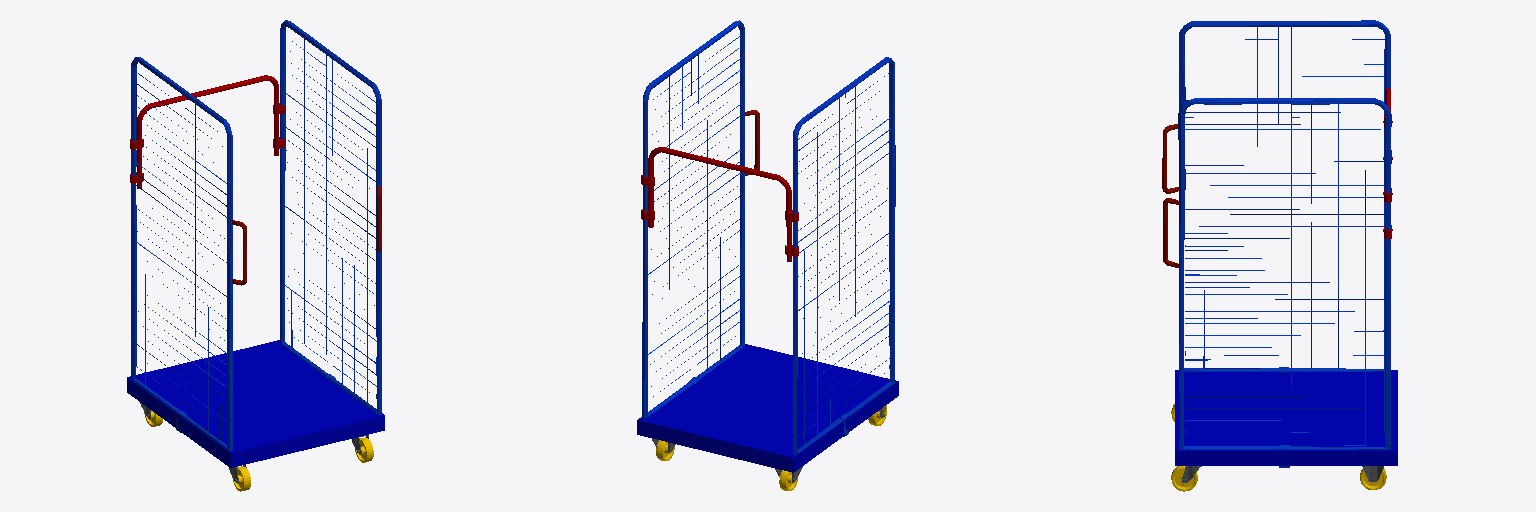
The robot description file, URDF, robot "roll_container":
<?xml version="1.0"?>
<!-- created with Phobos 1.0.1 "Capricious Choutengan" -->
  <robot name="roll_container">

    <link name="back_stabilizer">
      <inertial>
        <origin xyz="0 0 0" rpy="0 0 0"/>
        <mass value="0.1"/>
        <inertia ixx="5e-05" ixy="0" ixz="0" iyy="0.00038" iyz="0" izz="0.00032"/>
      </inertial>
      <visual name="visual_back_stabilizer">
        <origin xyz="0 0 0" rpy="0 0 0"/>
        <geometry>
          <mesh filename="package://roll_container_description/meshes/stl/Part__Feature167.stl" scale="1.0 1.0 1.0"/>
        </geometry>
        <material name="back_stabilizer"/>
      </visual>
      <collision name="collision_back_stabilizer_1">
        <origin xyz="0 0.00014 0.14752" rpy="0 1.5708 0"/>
        <geometry>
          <cylinder radius="0.01072" length="0.64768"/>
        </geometry>
      </collision>
      <collision name="collision_back_stabilizer_2">
        <origin xyz="0.3151 -0.00054 -0.02707" rpy="0 0 0"/>
        <geometry>
          <cylinder radius="0.01072" length="0.35586"/>
        </geometry>
      </collision>
      <collision name="collision_back_stabilizer_3">
        <origin xyz="-0.3151 -0.00054 -0.02706" rpy="0 0 0"/>
        <geometry>
          <cylinder radius="0.01072" length="0.35586"/>
        </geometry>
      </collision>
    </link>

    <link name="castor_rigit_left">
      <inertial>
        <origin xyz="0 0 0" rpy="0 0 0"/>
        <mass value="0.05"/>
        <inertia ixx="2e-05" ixy="0" ixz="0" iyy="2e-05" iyz="0" izz="2e-05"/>
      </inertial>
      <visual name="visual_castor_rigit_left_fork">
        <origin xyz="0 0 0" rpy="0 0 0"/>
        <geometry>
          <mesh filename="package://roll_container_description/meshes/stl/Part__Feature082.stl" scale="1.0 1.0 1.0"/>
        </geometry>
        <material name="metal"/>
      </visual>
      <collision name="collision_castor_rigit_left_fork">
        <origin xyz="-0.00018 0 -0.01474" rpy="0 0 0"/>
        <geometry>
          <box size="0.086 0.1015 0.089"/>
        </geometry>
      </collision>
    </link>

    <link name="castor_rigit_left_wheel">
      <inertial>
        <origin xyz="0 0 0" rpy="0 0 0"/>
        <mass value="0.25"/>
        <inertia ixx="3e-05" ixy="0" ixz="0" iyy="2e-05" iyz="0" izz="2e-05"/>
      </inertial>
      <visual name="visual_castor_rigit_left_wheel">
        <origin xyz="0 0 0" rpy="0 -1.5708 0"/>
        <geometry>
          <mesh filename="package://roll_container_description/meshes/stl/Part__Feature066.stl" scale="1.0 1.0 1.0"/>
        </geometry>
        <material name="wheel"/>
      </visual>
      <collision name="collision_castor_rigit_left_wheel">
        <origin xyz="-5e-05 0 0" rpy="0 0 0"/>
        <geometry>
          <cylinder radius="0.0495" length="0.03989"/>
        </geometry>
      </collision>
    </link>

    <link name="castor_rigit_right">
      <inertial>
        <origin xyz="0 0 0" rpy="0 0 0"/>
        <mass value="0.05"/>
        <inertia ixx="2e-05" ixy="0" ixz="0" iyy="2e-05" iyz="0" izz="2e-05"/>
      </inertial>
      <visual name="visual_castor_rigit_right_fork">
        <origin xyz="0 0 0" rpy="0 0 0"/>
        <geometry>
          <mesh filename="package://roll_container_description/meshes/stl/Part__Feature099.stl" scale="1.0 1.0 1.0"/>
        </geometry>
        <material name="metal"/>
      </visual>
      <collision name="collision_castor_rigit_right_fork">
        <origin xyz="-0.00018 0 -0.01474" rpy="0 0 0"/>
        <geometry>
          <box size="0.086 0.1015 0.089"/>
        </geometry>
      </collision>
    </link>

    <link name="castor_rigit_right_wheel">
      <inertial>
        <origin xyz="0 0 0" rpy="0 0 0"/>
        <mass value="0.25"/>
        <inertia ixx="3e-05" ixy="0" ixz="0" iyy="2e-05" iyz="0" izz="2e-05"/>
      </inertial>
      <visual name="visual_castor_rigit_right_wheel">
        <origin xyz="0 0 0" rpy="0 -1.5708 0"/>
        <geometry>
          <mesh filename="package://roll_container_description/meshes/stl/Part__Feature083.stl" scale="1.0 1.0 1.0"/>
        </geometry>
        <material name="wheel"/>
      </visual>
      <collision name="collision_castor_rigit_right_wheel">
        <origin xyz="-5e-05 0 0" rpy="0 0 0"/>
        <geometry>
          <cylinder radius="0.0495" length="0.03989"/>
        </geometry>
      </collision>
    </link>

    <link name="castor_swivel_left">
      <inertial>
        <origin xyz="0 0 0" rpy="0 0 0"/>
        <mass value="0.05"/>
        <inertia ixx="2e-05" ixy="0" ixz="0" iyy="2e-05" iyz="0" izz="2e-05"/>
      </inertial>
      <visual name="visual_castor_swivel_left_top_plate">
        <origin xyz="0 0 0" rpy="0 0 0"/>
        <geometry>
          <mesh filename="package://roll_container_description/meshes/stl/Part__Feature021.stl" scale="1.0 1.0 1.0"/>
        </geometry>
        <material name="metal"/>
      </visual>
      <collision name="collision_castor_swivel_left_top_plate">
        <origin xyz="0 0 -0.00201" rpy="0 0 0"/>
        <geometry>
          <box size="0.08 0.105 0.0125"/>
        </geometry>
      </collision>
    </link>

    <link name="castor_swivel_left_fork">
      <inertial>
        <origin xyz="-0.00547 -0.01599 -0.02516" rpy="0 0 0"/>
        <mass value="0.05"/>
        <inertia ixx="2e-05" ixy="0" ixz="0" iyy="2e-05" iyz="0" izz="2e-05"/>
      </inertial>
      <visual name="visual_castor_swivel_left_fork">
        <origin xyz="-0.00547 -0.01599 -0.02516" rpy="0 0 0"/>
        <geometry>
          <mesh filename="package://roll_container_description/meshes/stl/Part__Feature022.stl" scale="1.0 1.0 1.0"/>
        </geometry>
        <material name="metal"/>
      </visual>
      <collision name="collision_castor_swivel_left_fork">
        <origin xyz="0.00029 -0.01005 -0.03671" rpy="0 0 0"/>
        <geometry>
          <box size="0.06794 0.086 0.07898"/>
        </geometry>
      </collision>
    </link>

    <link name="castor_swivel_left_wheel">
      <inertial>
        <origin xyz="0 0 -5e-05" rpy="0 0 0"/>
        <mass value="0.25"/>
        <inertia ixx="3e-05" ixy="0" ixz="0" iyy="2e-05" iyz="0" izz="2e-05"/>
      </inertial>
      <visual name="visual_castor_swivel_left_wheel">
        <origin xyz="0 0 -5e-05" rpy="0.50265 -1.5708 0"/>
        <geometry>
          <mesh filename="package://roll_container_description/meshes/stl/Part__Feature006.stl" scale="1.0 1.0 1.0"/>
        </geometry>
        <material name="wheel"/>
      </visual>
      <collision name="collision_castor_swivel_left_wheel">
        <origin xyz="0 0 0" rpy="0 0 0"/>
        <geometry>
          <cylinder radius="0.0495" length="0.03989"/>
        </geometry>
      </collision>
    </link>

    <link name="castor_swivel_right_wheel">
      <inertial>
        <origin xyz="0 0 -5e-05" rpy="0 0 0"/>
        <mass value="0.25"/>
        <inertia ixx="3e-05" ixy="0" ixz="0" iyy="2e-05" iyz="0" izz="2e-05"/>
      </inertial>
      <visual name="visual_castor_swivel_right_wheel">
        <origin xyz="0 0 -5e-05" rpy="0.50265 -1.5708 0"/>
        <geometry>
          <mesh filename="package://roll_container_description/meshes/stl/Part__Feature006.stl" scale="1.0 1.0 1.0"/>
        </geometry>
        <material name="wheel"/>
      </visual>
      <collision name="collision_castor_swivel_right_wheel">
        <origin xyz="0 0 0" rpy="0 0 0"/>
        <geometry>
          <cylinder radius="0.0495" length="0.03989"/>
        </geometry>
      </collision>
    </link>

    <link name="castor_swivel_right_fork">
      <inertial>
        <origin xyz="-0.00589 -0.01692 -0.02589" rpy="0 0 0"/>
        <mass value="0.05"/>
        <inertia ixx="2e-05" ixy="0" ixz="0" iyy="2e-05" iyz="0" izz="2e-05"/>
      </inertial>
      <visual name="visual_castor_swivel_right_fork">
        <origin xyz="-0.00589 -0.01692 -0.02589" rpy="0 0 0"/>
        <geometry>
          <mesh filename="package://roll_container_description/meshes/stl/Part__Feature117.stl" scale="1.0 1.0 1.0"/>
        </geometry>
        <material name="metal"/>
      </visual>
      <collision name="collision_castor_swivel_right_fork">
        <origin xyz="0.00107 -0.00955 -0.03667" rpy="0 0 0"/>
        <geometry>
          <box size="0.06794 0.086 0.07898"/>
        </geometry>
      </collision>
    </link>

    <link name="handle_left">
      <inertial>
        <origin xyz="0 0 0" rpy="0 0 0"/>
        <mass value="0.1"/>
        <inertia ixx="0.00011" ixy="0" ixz="0" iyy="0.00011" iyz="0" izz="2e-05"/>
      </inertial>
      <visual name="visual_handle_left">
        <origin xyz="-0.00659 0.00693 0" rpy="0 0 0"/>
        <geometry>
          <mesh filename="package://roll_container_description/meshes/stl/Part__Feature163.stl" scale="1.0 1.0 1.0"/>
        </geometry>
        <material name="handle"/>
      </visual>
      <collision name="collision_handle_left">
        <origin xyz="0.00434 -0.00751 -4e-05" rpy="0 0 0"/>
        <geometry>
          <cylinder radius="0.00973" length="0.27591"/>
        </geometry>
      </collision>
      <collision name="collision_handle_left_2">
        <origin xyz="-0.01033 0.01723 -0.13067" rpy="1.5708 0 0.5236"/>
        <geometry>
          <cylinder radius="0.00973" length="0.05394"/>
        </geometry>
      </collision>
      <collision name="collision_handle_left_3">
        <origin xyz="-0.01033 0.01723 0.12873" rpy="1.5708 0 0.5236"/>
        <geometry>
          <cylinder radius="0.00973" length="0.05394"/>
        </geometry>
      </collision>
    </link>

    <link name="handle_right">
      <inertial>
        <origin xyz="0.00433 0.00751 4e-05" rpy="0 0 0"/>
        <mass value="0.1"/>
        <inertia ixx="0.00011" ixy="0" ixz="0" iyy="0.00011" iyz="0" izz="2e-05"/>
      </inertial>
      <visual name="visual_handle_right">
        <origin xyz="0.00433 0.00751 4e-05" rpy="0 0 0"/>
        <geometry>
          <mesh filename="package://roll_container_description/meshes/stl/Part__Feature166.stl" scale="1.0 1.0 1.0"/>
        </geometry>
        <material name="handle"/>
      </visual>
      <collision name="collision_handle_right">
        <origin xyz="0 0 0" rpy="0 0 0"/>
        <geometry>
          <cylinder radius="0.00973" length="0.27591"/>
        </geometry>
      </collision>
      <collision name="collision_handle_right_000">
        <origin xyz="0.01477 0.02494 0.12877" rpy="1.5708 0 -0.5236"/>
        <geometry>
          <cylinder radius="0.00973" length="0.05394"/>
        </geometry>
      </collision>
      <collision name="collision_handle_right_000_001">
        <origin xyz="0.01477 0.02494 -0.13063" rpy="1.5708 0 -0.5236"/>
        <geometry>
          <cylinder radius="0.00973" length="0.05394"/>
        </geometry>
      </collision>
    </link>

    <link name="castor_swivel_right">
      <inertial>
        <origin xyz="0 0 0" rpy="0 0 0"/>
        <mass value="0.05"/>
        <inertia ixx="2e-05" ixy="0" ixz="0" iyy="2e-05" iyz="0" izz="2e-05"/>
      </inertial>
      <visual name="visual_castor_swivel_right_top_plate">
        <origin xyz="0 0 0" rpy="0 0 0"/>
        <geometry>
          <mesh filename="package://roll_container_description/meshes/stl/Part__Feature021.stl" scale="1.0 1.0 1.0"/>
        </geometry>
        <material name="metal"/>
      </visual>
      <collision name="collision_castor_swivel_right_top_plate">
        <origin xyz="0 0 -0.00201" rpy="0 0 0"/>
        <geometry>
          <box size="0.08 0.105 0.0125"/>
        </geometry>
      </collision>
    </link>

    <link name="roll_container_root">
      <inertial>
        <origin xyz="0 0 0" rpy="0 0 0"/>
        <mass value="2.0"/>
        <inertia ixx="0.00605" ixy="0" ixz="0" iyy="0.00465" iyz="0" izz="0.01065"/>
      </inertial>
      <visual name="visual_container_base">
        <origin xyz="-0.00111 0 0" rpy="0 0 0"/>
        <geometry>
          <mesh filename="package://roll_container_description/meshes/stl/Part__Feature.stl" scale="1.01559 1.0 1.0"/>
        </geometry>
        <material name="plate"/>
      </visual>
      <collision name="collision_container_base">
        <origin xyz="0.00017 0.00201 -0.00708" rpy="0 0 0"/>
        <geometry>
          <box size="0.724 0.815 0.06371"/>
        </geometry>
      </collision>
    </link>

    <link name="wire_lattice_left">
      <inertial>
        <origin xyz="0 0 0" rpy="0 0 0"/>
        <mass value="2.0"/>
        <inertia ixx="0.02993" ixy="1e-05" ixz="0" iyy="0.02364" iyz="0" izz="0.0063"/>
      </inertial>
      <visual name="visual_wire_lattice_left">
        <origin xyz="0 0 0" rpy="0 0 0"/>
        <geometry>
          <mesh filename="package://roll_container_description/meshes/stl/Part__Feature162.stl" scale="1.0 1.0 1.0"/>
        </geometry>
        <material name="lattice"/>
      </visual>
      <collision name="collision_wire_lattice_left">
        <origin xyz="-0.00376 -2e-05 0.04164" rpy="0 0 0"/>
        <geometry>
          <box size="0.01972 0.79 1.43781"/>
        </geometry>
      </collision>
    </link>

    <link name="wire_lattice_right">
      <inertial>
        <origin xyz="0 0 0" rpy="0 0 0"/>
        <mass value="2.0"/>
        <inertia ixx="0.02993" ixy="-1e-05" ixz="0" iyy="0.02364" iyz="0" izz="0.0063"/>
      </inertial>
      <visual name="visual_wire_lattice_right">
        <origin xyz="0 0 0" rpy="0 0 0"/>
        <geometry>
          <mesh filename="package://roll_container_description/meshes/stl/Part__Feature165.stl" scale="1.0 1.0 1.0"/>
        </geometry>
        <material name="lattice"/>
      </visual>
      <collision name="collision_wire_lattice_right">
        <origin xyz="0.00378 -0.00039 0.04163" rpy="0 0 0"/>
        <geometry>
          <box size="0.01977 0.79 1.43701"/>
        </geometry>
      </collision>
    </link>

    <joint name="back_stabilizer" type="fixed">
      <origin xyz="0.00017 0.38637 1.06389" rpy="0 0 0"/>
      <parent link="roll_container_root"/>
      <child link="back_stabilizer"/>
    </joint>

    <joint name="castor_rigit_left" type="fixed">
      <origin xyz="-0.28116 0.33151 -0.06865" rpy="0 0 0"/>
      <parent link="roll_container_root"/>
      <child link="castor_rigit_left"/>
    </joint>

    <joint name="castor_rigit_left_wheel" type="continuous">
      <origin xyz="-0.00012 0 -0.04824" rpy="0 1.5708 0"/>
      <parent link="castor_rigit_left"/>
      <child link="castor_rigit_left_wheel"/>
      <axis xyz="0 0 1.0"/>
      <limit effort="0" velocity="0"/>
    </joint>

    <joint name="castor_rigit_right" type="fixed">
      <origin xyz="0.28116 0.33151 -0.06865" rpy="0 0 0"/>
      <parent link="roll_container_root"/>
      <child link="castor_rigit_right"/>
    </joint>

    <joint name="castor_rigit_right_wheel" type="continuous">
      <origin xyz="-0.00012 0 -0.04824" rpy="0 1.5708 0"/>
      <parent link="castor_rigit_right"/>
      <child link="castor_rigit_right_wheel"/>
      <axis xyz="0 0 1.0"/>
      <limit effort="0" velocity="0"/>
    </joint>

    <joint name="castor_swivel_left" type="fixed">
      <origin xyz="-0.28133 -0.32949 -0.04313" rpy="0 0 0"/>
      <parent link="roll_container_root"/>
      <child link="castor_swivel_left"/>
    </joint>

    <joint name="castor_swivel_left_fork" type="continuous">
      <origin xyz="-0.0003 0.00105 -0.00905" rpy="0 0 0"/>
      <parent link="castor_swivel_left"/>
      <child link="castor_swivel_left_fork"/>
      <axis xyz="0 0 1.0"/>
      <limit effort="0" velocity="0"/>
    </joint>

    <joint name="castor_swivel_left_wheel" type="continuous">
      <origin xyz="0.0003 -0.04105 -0.06471" rpy="0 1.5708 0"/>
      <parent link="castor_swivel_left_fork"/>
      <child link="castor_swivel_left_wheel"/>
      <axis xyz="0 0 1.0"/>
      <limit effort="0" velocity="0"/>
    </joint>

    <joint name="castor_swivel_right" type="fixed">
      <origin xyz="0.28133 -0.32949 -0.04313" rpy="0 0 0"/>
      <parent link="roll_container_root"/>
      <child link="castor_swivel_right"/>
    </joint>

    <joint name="castor_swivel_right_fork" type="continuous">
      <origin xyz="-0.00108 -0.00045 -0.01333" rpy="0 0 0"/>
      <parent link="castor_swivel_right"/>
      <child link="castor_swivel_right_fork"/>
      <axis xyz="0 0 1.0"/>
      <limit effort="0" velocity="0"/>
    </joint>

    <joint name="castor_swivel_right_wheel" type="continuous">
      <origin xyz="0.00108 -0.04055 -0.06467" rpy="0 1.5708 0"/>
      <parent link="castor_swivel_right_fork"/>
      <child link="castor_swivel_right_wheel"/>
      <axis xyz="0 0 1.0"/>
      <limit effort="0" velocity="0"/>
    </joint>

    <joint name="handle_left" type="fixed">
      <origin xyz="0.0335 -0.44534 0.20148" rpy="0 0 0"/>
      <parent link="wire_lattice_left"/>
      <child link="handle_left"/>
    </joint>

    <joint name="handle_right" type="fixed">
      <origin xyz="-0.03349 -0.44571 0.20147" rpy="0 0 0"/>
      <parent link="wire_lattice_right"/>
      <child link="handle_right"/>
    </joint>

    <joint name="wire_lattice_left" type="fixed">
      <origin xyz="-0.3407 0.00254 0.70262" rpy="0 0 0"/>
      <parent link="roll_container_root"/>
      <child link="wire_lattice_left"/>
    </joint>

    <joint name="wire_lattice_right" type="fixed">
      <origin xyz="0.34102 0.00291 0.70264" rpy="0 0 0"/>
      <parent link="roll_container_root"/>
      <child link="wire_lattice_right"/>
    </joint>

    <material name="back_stabilizer">
      <color rgba="0.64 0 0.00462 1.0"/>
    </material>

    <material name="handle">
      <color rgba="0.54902 0.06118 0.01087 1.0"/>
    </material>

    <material name="lattice">
      <color rgba="0.04 0.23976 0.8 1.0"/>
    </material>

    <material name="metal">
      <color rgba="0.37158 0.38592 0.39753 1.0"/>
    </material>

    <material name="plate">
      <color rgba="0.00779 0.02086 0.74902 1.0"/>
    </material>

    <material name="wheel">
      <color rgba="0.93333 0.76027 0.01116 1.0"/>
    </material>

  </robot>

--- What the picture shows (computed from the rendered views, not written in the file) ---
The picture shows the robot from 3 angles, left to right: view 1: azimuth 30°, elevation 25°; view 2: azimuth 150°, elevation 25°; view 3: azimuth 270°, elevation 25°; orthographic projection.
Robot: roll_container — 16 links, 15 joints (6 continuous, 9 fixed); root link roll_container_root; default pose: all joints at 0.
Visible links, largest first — view 1: roll_container_root, wire_lattice_right, wire_lattice_left, back_stabilizer; view 2: roll_container_root, wire_lattice_left, wire_lattice_right, back_stabilizer; view 3: roll_container_root, wire_lattice_right, wire_lattice_left.
Link boxes in pixels (bbox=[...]): roll_container_root: bbox=[127, 340, 384, 467]; wire_lattice_right: bbox=[280, 20, 381, 414]; wire_lattice_left: bbox=[131, 57, 232, 450]; back_stabilizer: bbox=[130, 75, 285, 188]; roll_container_root: bbox=[637, 344, 898, 472]; wire_lattice_left: bbox=[793, 57, 894, 454]; wire_lattice_right: bbox=[642, 20, 744, 418]; back_stabilizer: bbox=[641, 147, 798, 261]; roll_container_root: bbox=[1175, 370, 1397, 465]; wire_lattice_right: bbox=[1178, 98, 1390, 467]; wire_lattice_left: bbox=[1179, 20, 1390, 372].
Bounding box of the posed robot: 0.7152 × 0.8738 × 1.64 m (x, y, z).
16 mesh visuals loaded from 14 distinct referenced files (14 binary STL).